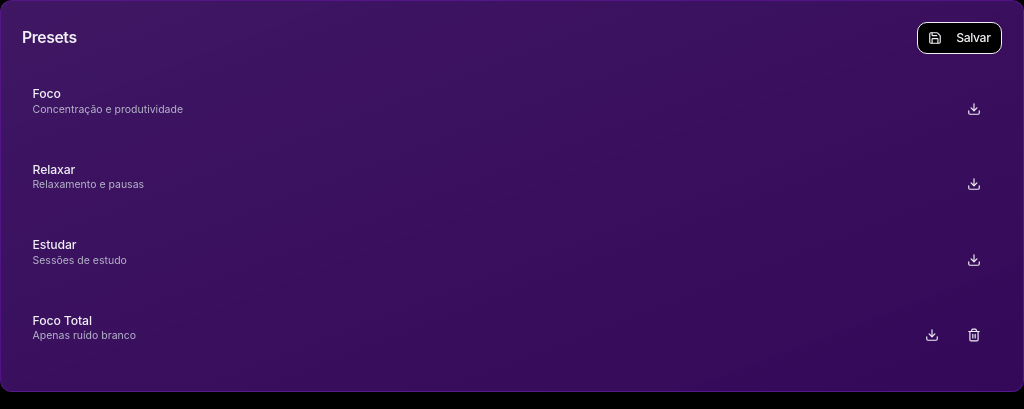
PresetManager › permite deletar um preset do usuário
Check: the heading "Foco Total" is shown, box [32,312,92,328]
Click the 6th button at (974, 335), box [956,320,992,351]
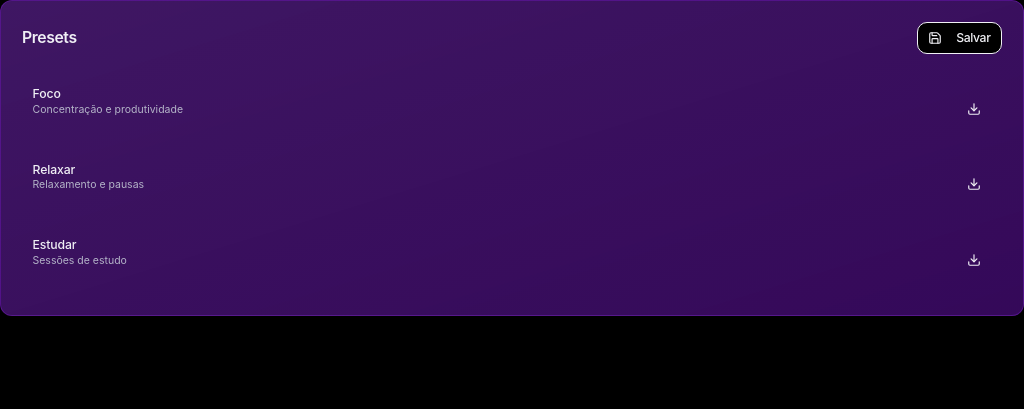
Check: the heading "Foco Total" is gone
